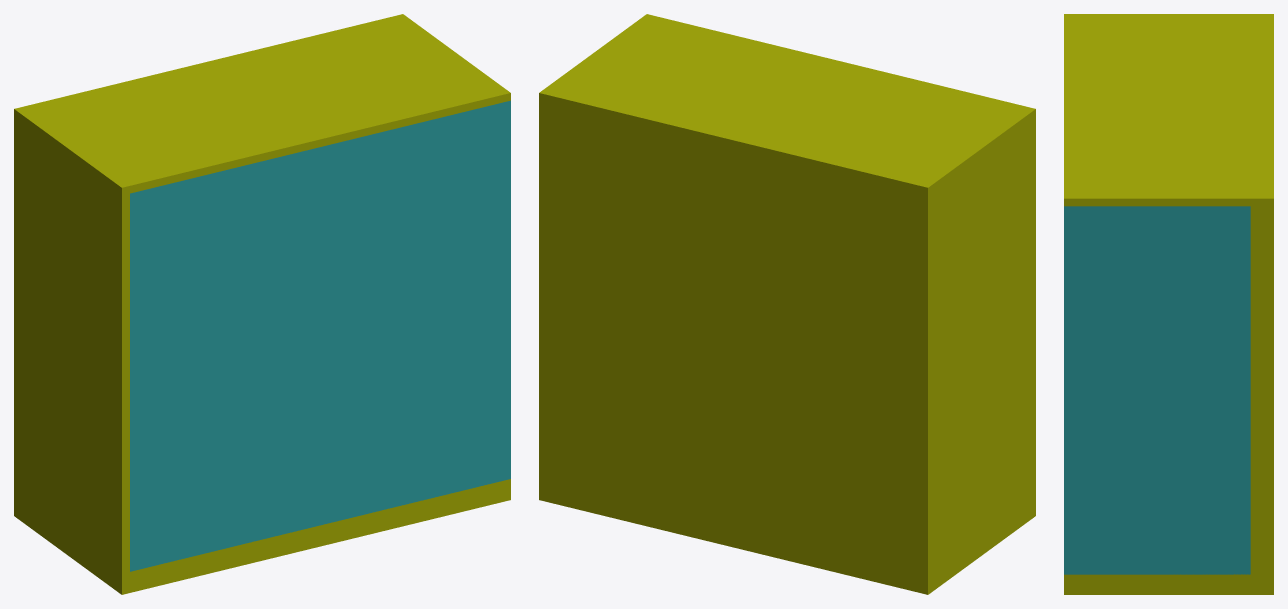
File: pcGold.fbx
The picture shows the model from 3 angles, left to right: view 1: azimuth 30°, elevation 25°; view 2: azimuth 150°, elevation 25°; view 3: azimuth 270°, elevation 25°; orthographic projection. The views are drawn at different scales.
Parts seen in each view (by area): view 1: GlassSide.001, PC; view 2: PC; view 3: GlassFront.001, PC.
Part boxes in pixels (x1=…): GlassSide.001: x1=130, y1=100, x2=510, y2=571; PC: x1=14, y1=14, x2=510, y2=594; PC: x1=539, y1=14, x2=1035, y2=594; GlassFront.001: x1=1064, y1=206, x2=1250, y2=574; PC: x1=1064, y1=14, x2=1273, y2=594.
Bounding box in the file's own units: 2 × 0.96 × 2.
